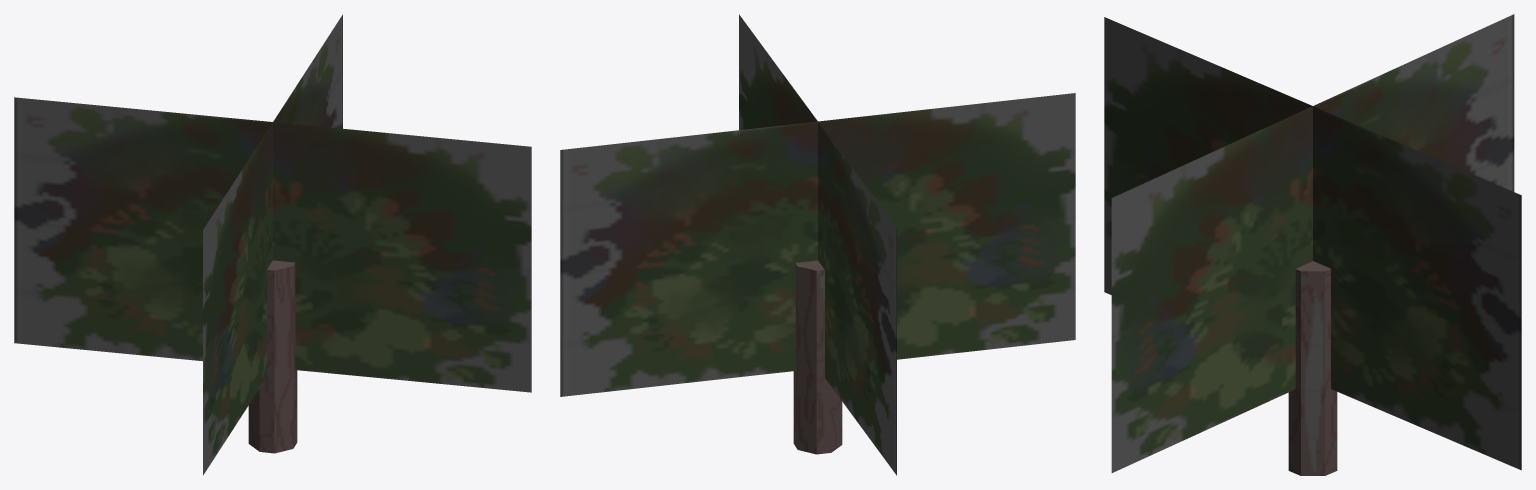
The model's file is bush.fbx.
The picture shows the model from 3 angles, left to right: view 1: azimuth 30°, elevation 25°; view 2: azimuth 150°, elevation 25°; view 3: azimuth 270°, elevation 25°; orthographic projection. The views are drawn at different scales.
Visible parts, largest first — view 1: pCube10; view 2: pCube10; view 3: pCube10.
Boxes of the visible parts, box(x1,y1,x2,y2) form: pCube10: box(14, 14, 531, 475); pCube10: box(560, 14, 1075, 475); pCube10: box(1104, 14, 1521, 475).
Bounding box in the file's own units: 5.82 × 5.3 × 5.57.
